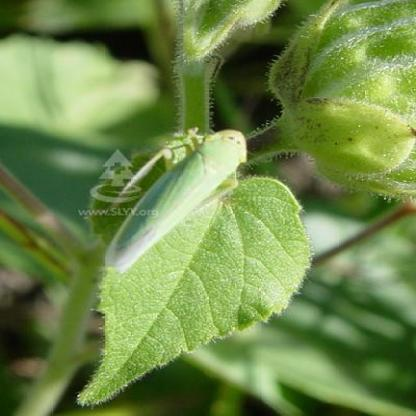Green-Leafhopper: (96, 127, 250, 273)
